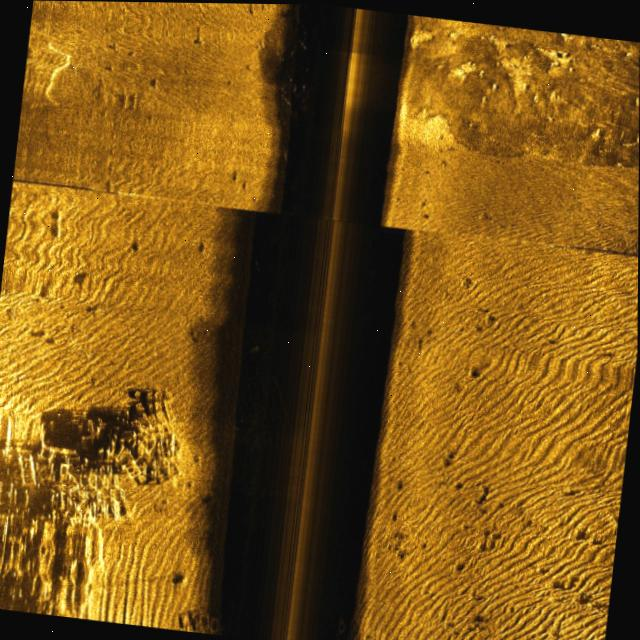artificial reef: (74, 401, 177, 527), (181, 581, 245, 637), (318, 594, 348, 640)
